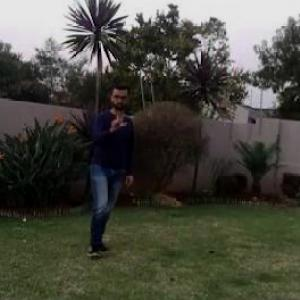land_hand: (101, 109, 130, 136)
